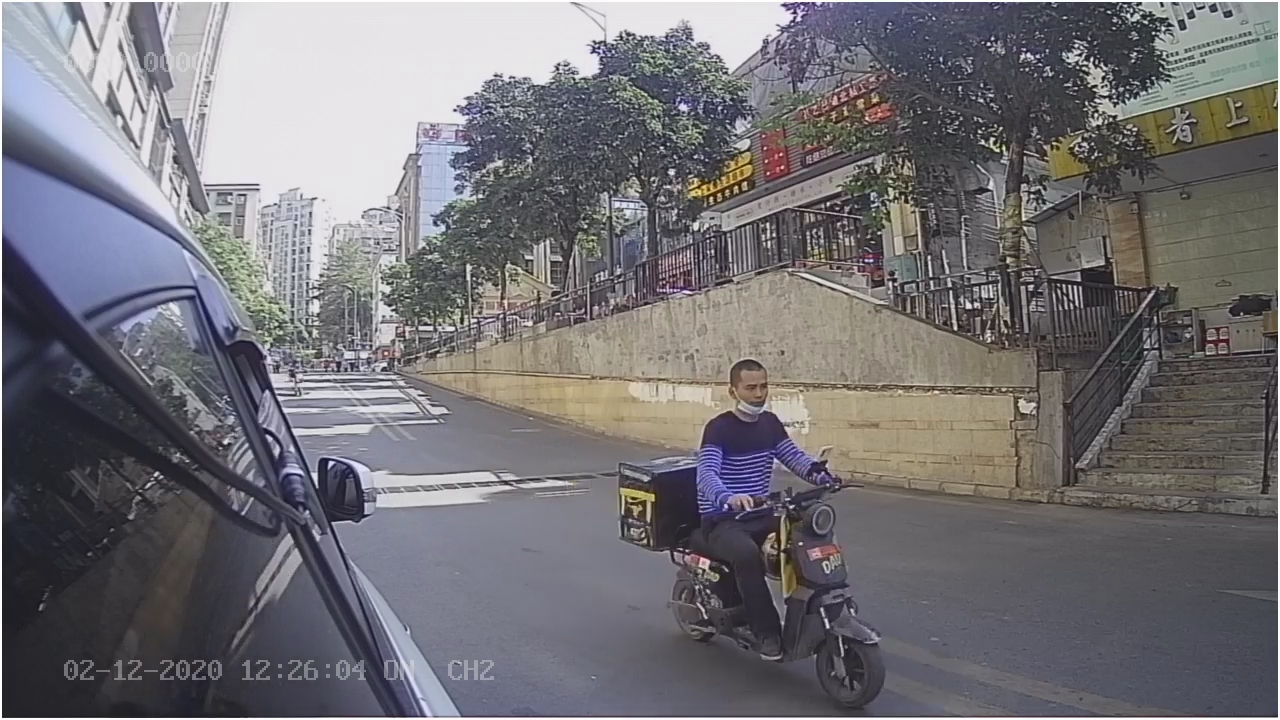person: (693, 349, 842, 511)
